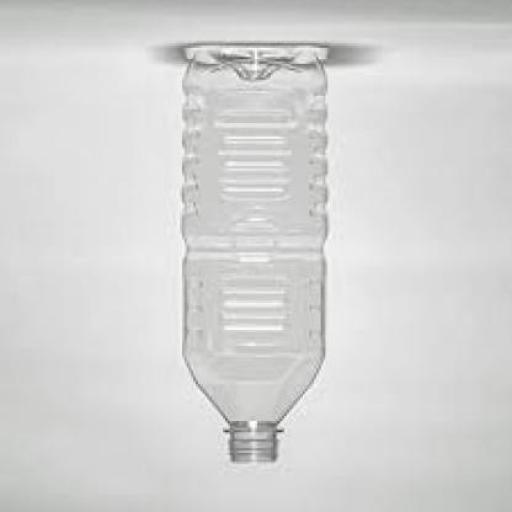plastic: (180, 48, 327, 466)
